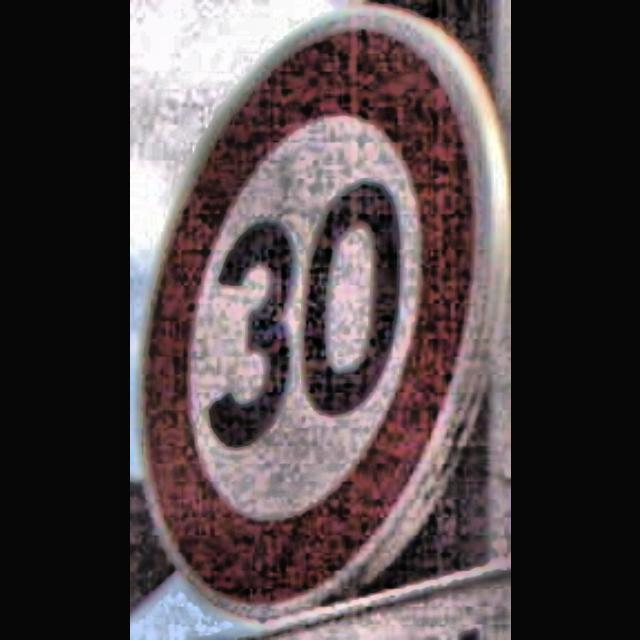speed_30: (147, 21, 487, 612)
